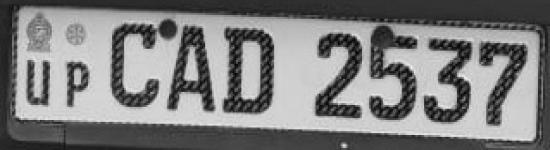2: (314, 27, 367, 126)
3: (423, 32, 477, 131)
5: (364, 29, 423, 128)
7: (477, 35, 532, 130)
A: (164, 21, 221, 120)
C: (101, 20, 162, 113)
D: (220, 23, 275, 120)
P: (56, 53, 96, 106)
U: (24, 56, 55, 109)
